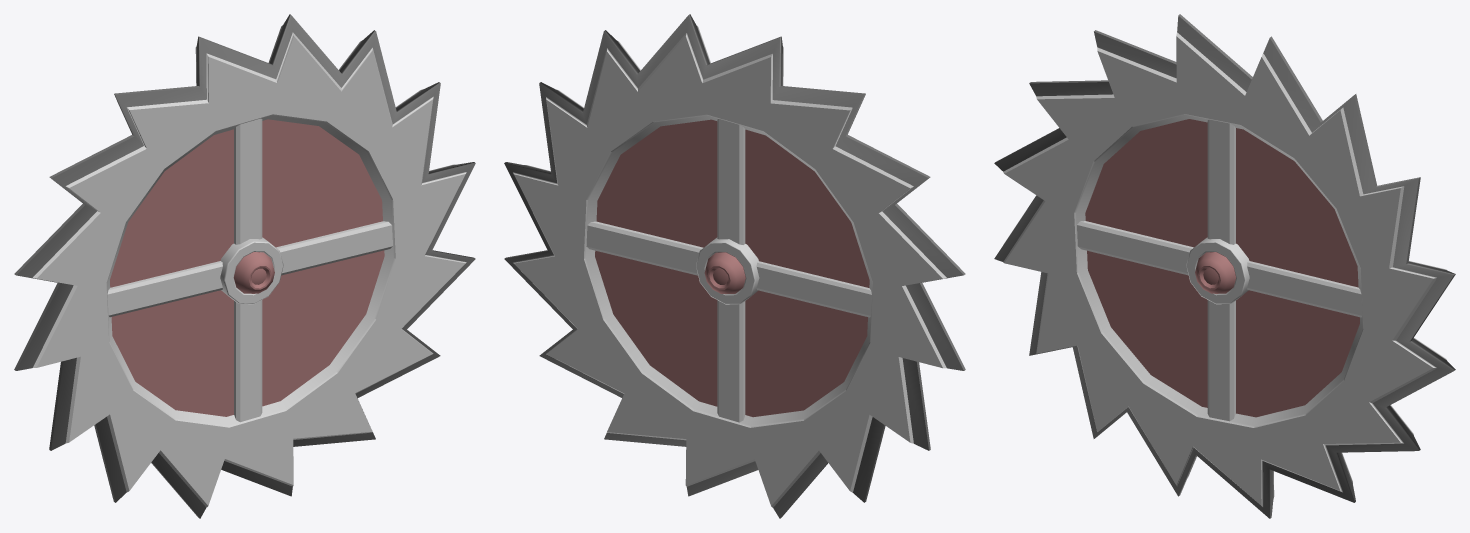
File: Spinblade.fbx
3 renders of one model, left to right at view 1: azimuth 30°, elevation 25°; view 2: azimuth 150°, elevation 25°; view 3: azimuth 330°, elevation 25°, orthographic.
Visible parts, largest first — view 1: Spinblade; view 2: Spinblade; view 3: Spinblade.
Boxes of the visible parts, x1,y1,x2,y2 form: Spinblade: (14,14,475,518); Spinblade: (504,14,965,518); Spinblade: (994,14,1455,518).
Bounding box in the file's own units: 115 × 115 × 13.56.
